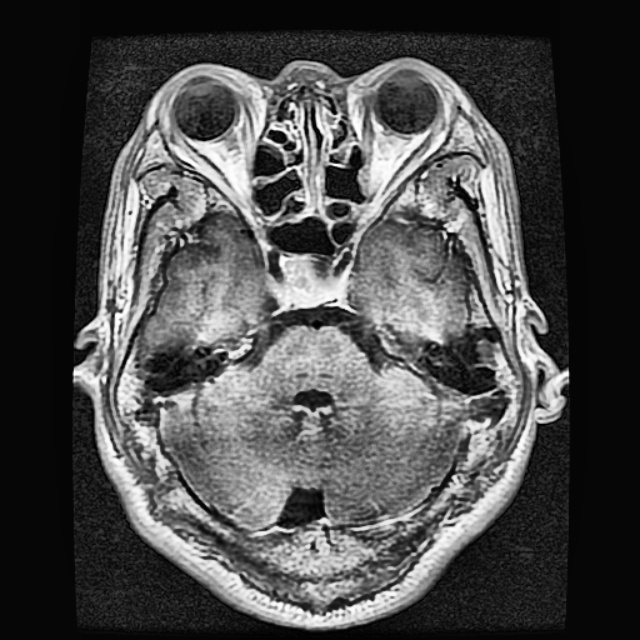Pituitary: (283, 254, 339, 302)
